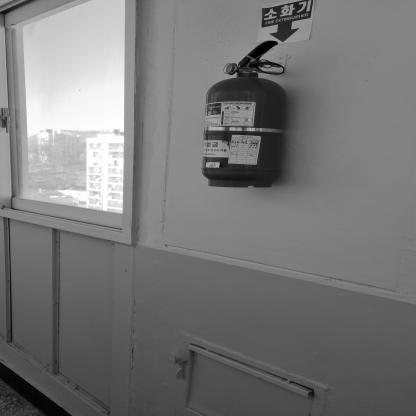FE: (201, 39, 289, 188)
